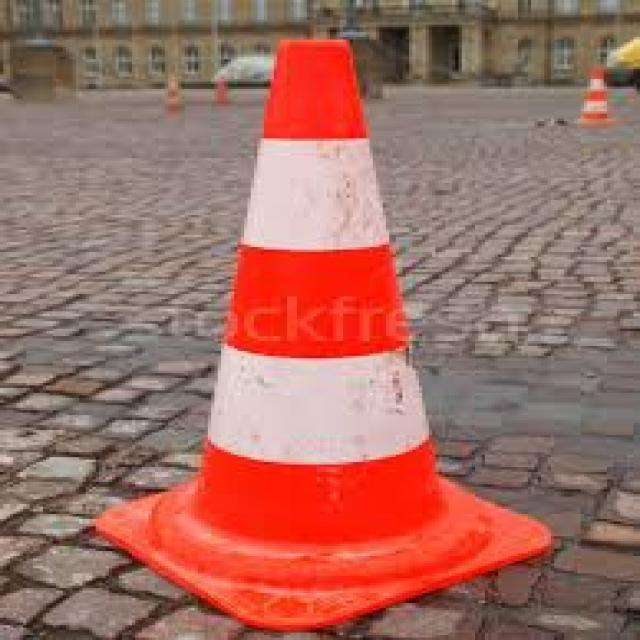Cone: (83, 24, 565, 638)
